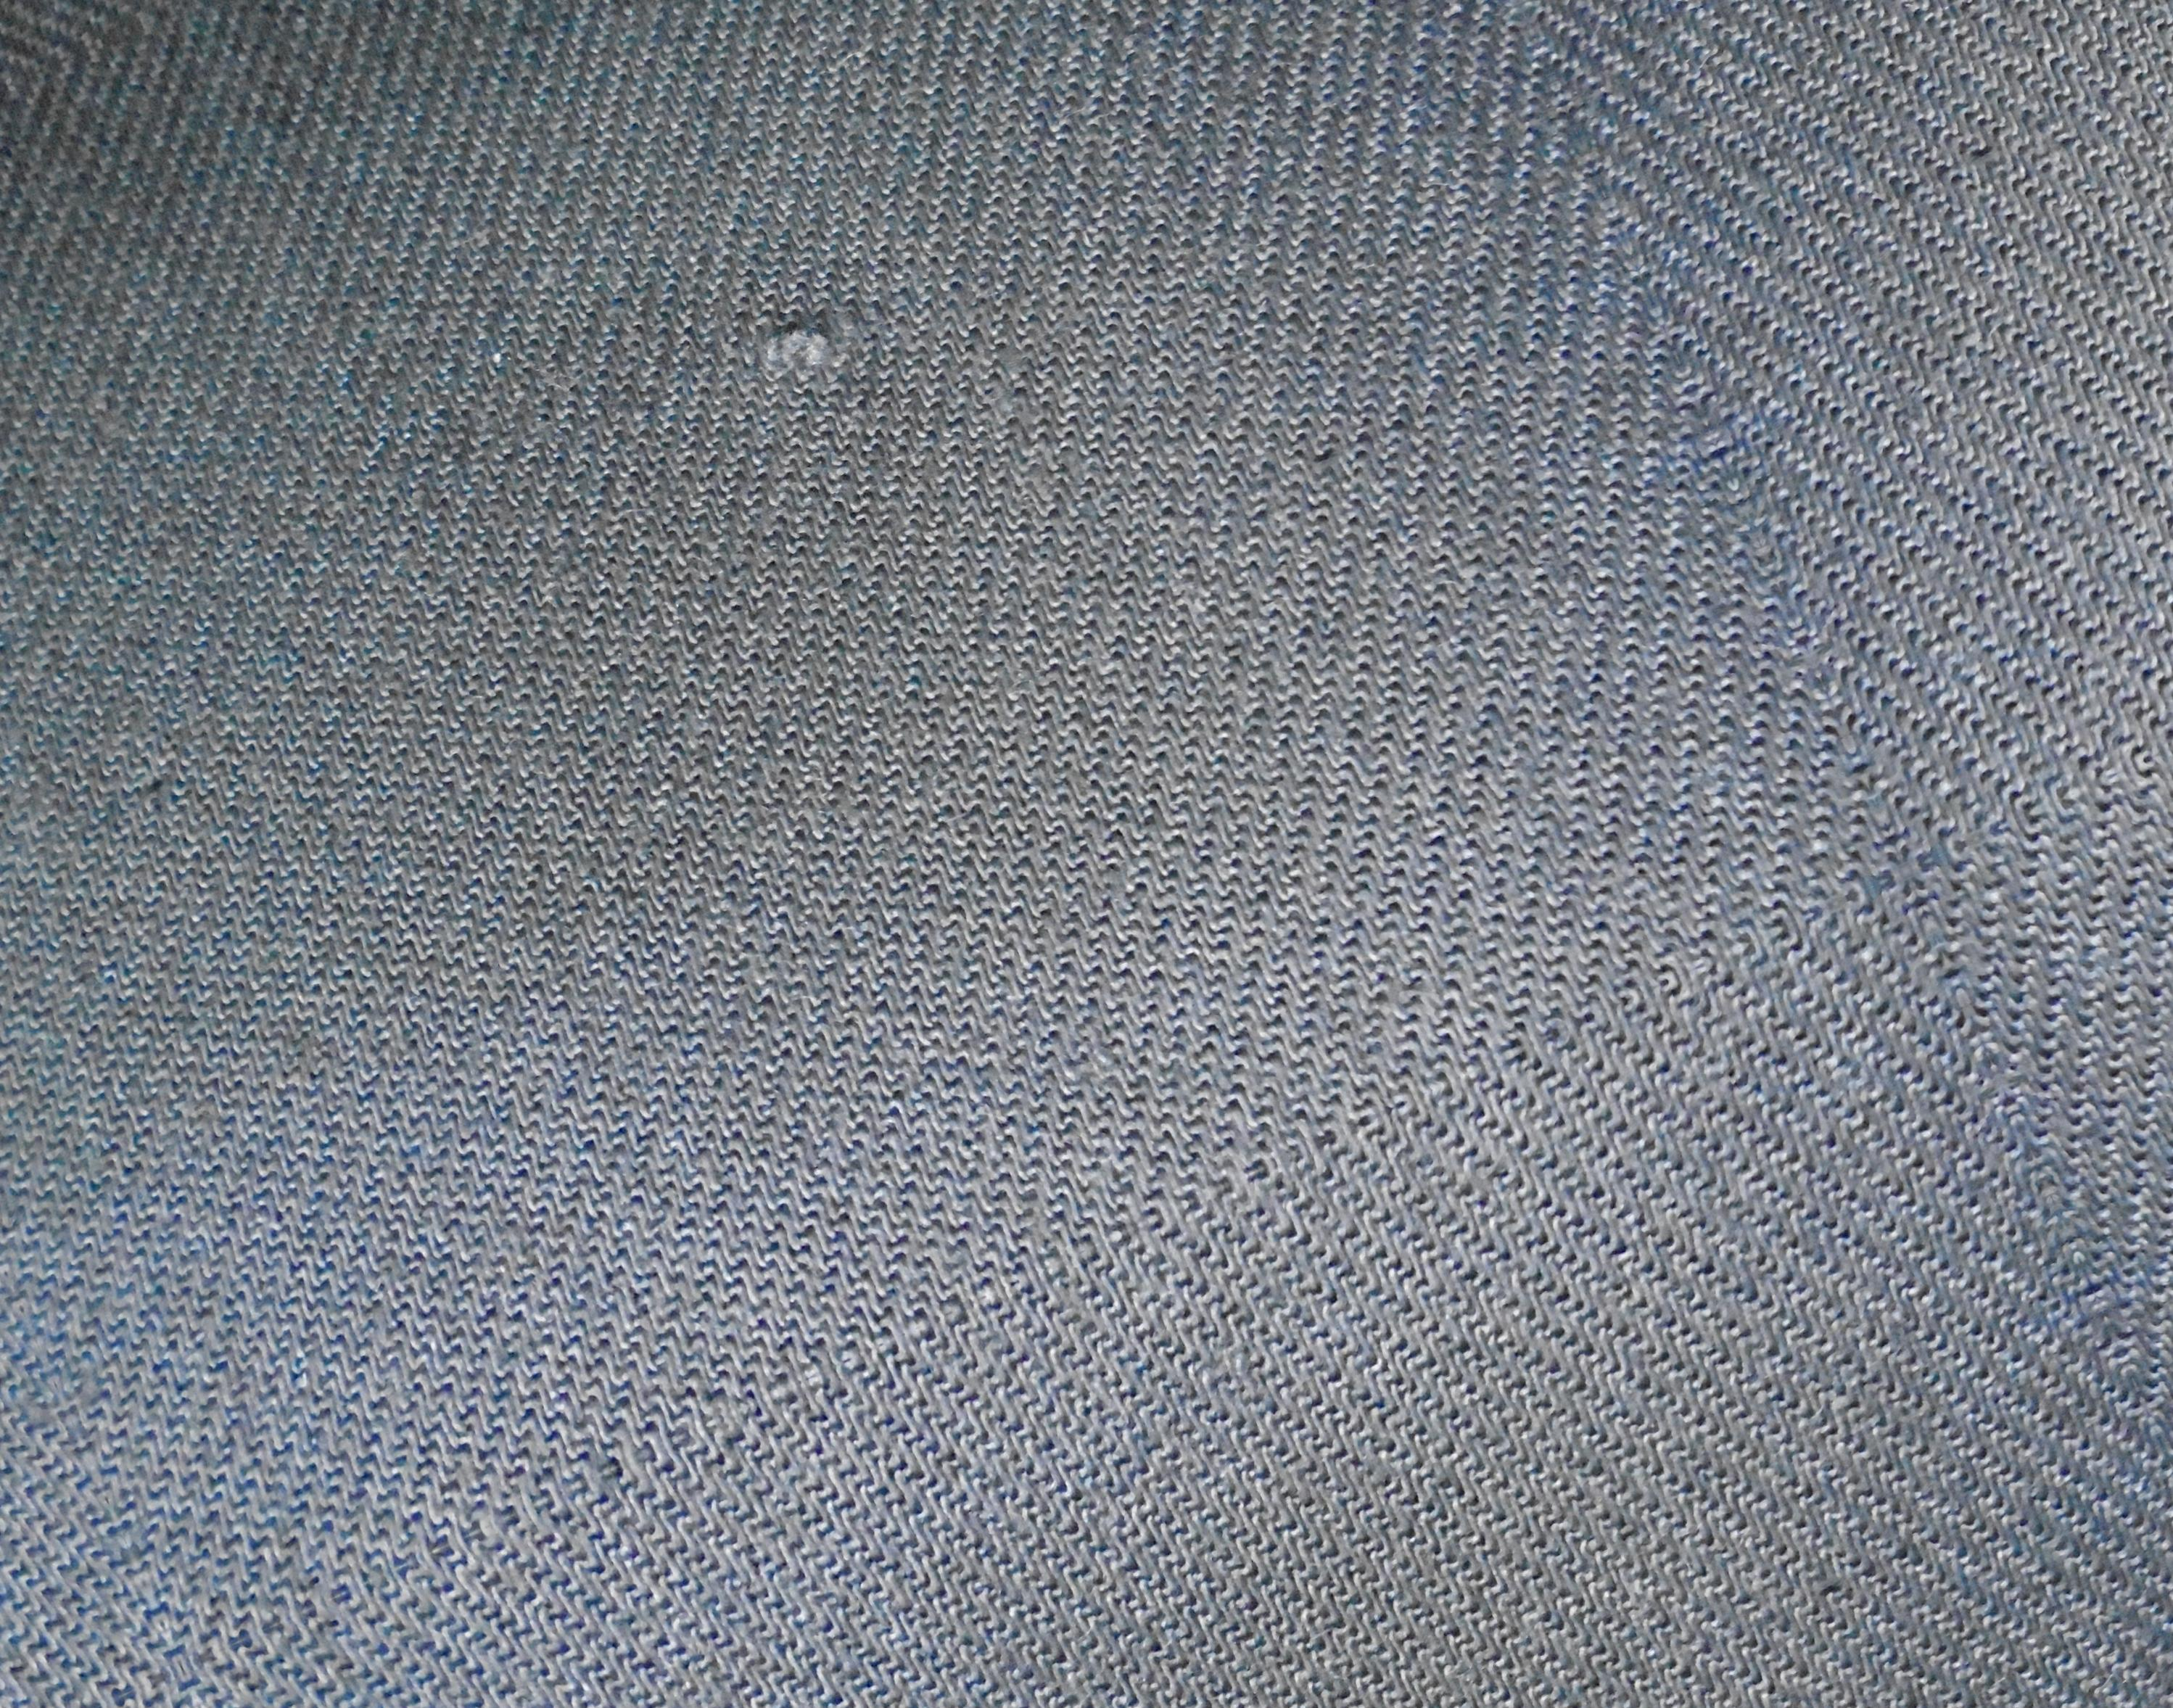knot: (727, 296, 884, 422)
